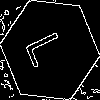L: (25, 25, 74, 70)
